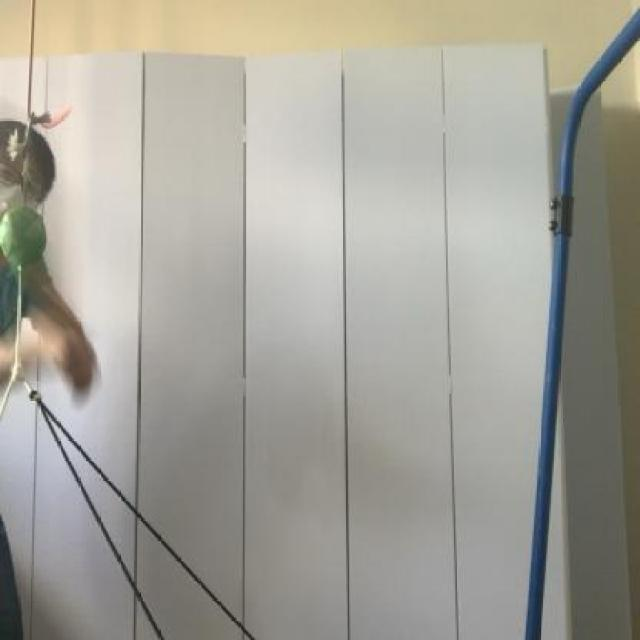baseball: (0, 195, 62, 280)
